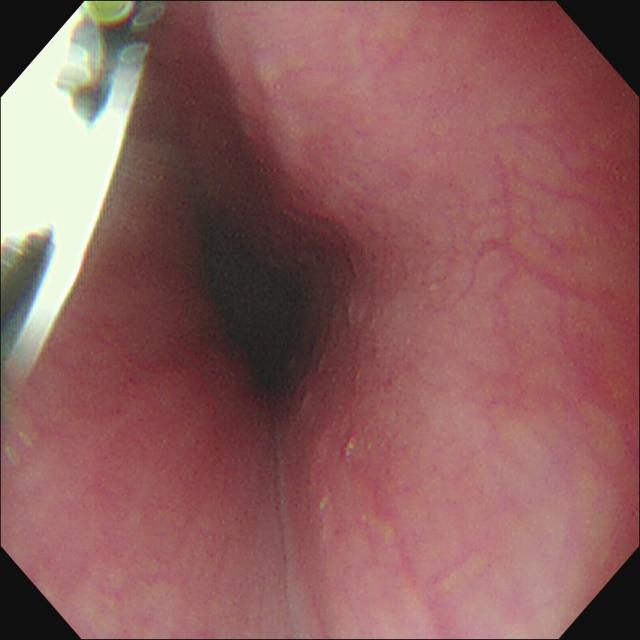E: (174, 119, 362, 443)
K: (2, 2, 169, 389)
